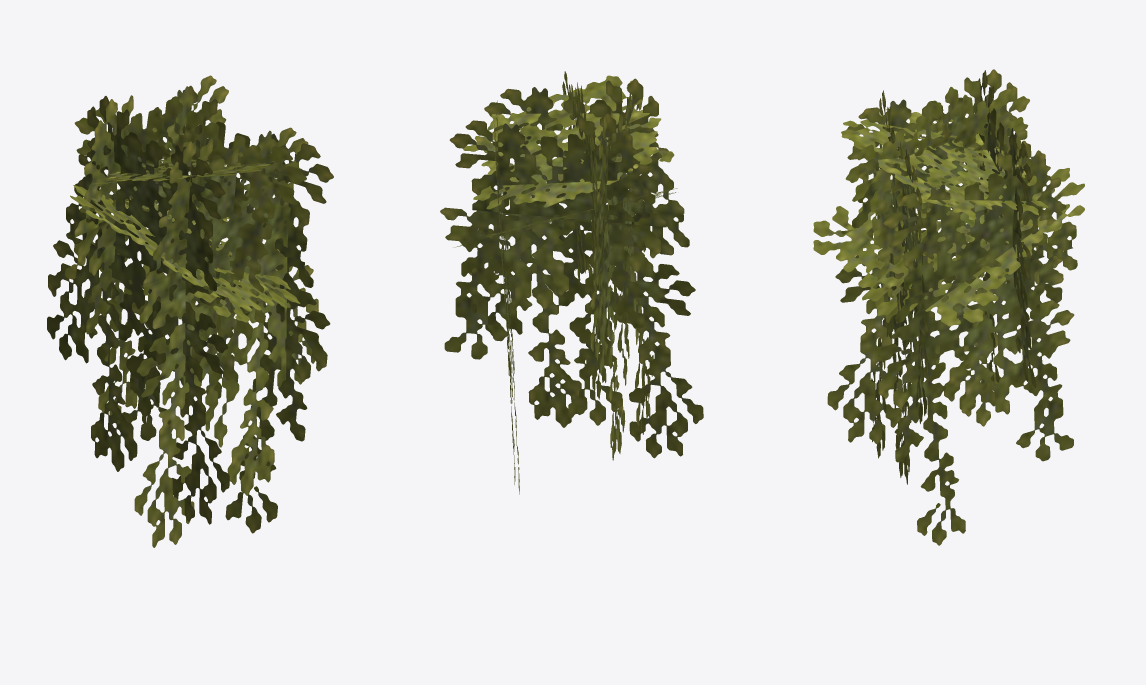
File: birch_leaves_yellowish_2.obj
3 views of the same model, side by side, from view 1: azimuth 30°, elevation 25°; view 2: azimuth 150°, elevation 25°; view 3: azimuth 270°, elevation 25° (orthographic). The views are drawn at different scales.
Visible parts, largest first — view 1: east, north, south, west, bottom, top; view 2: south, north, top, east, west; view 3: west, east, south, bottom, top, north.
Boxes of the visible parts, box(x1,y1,x2,y2) form: east: box(47, 96, 229, 524); north: box(134, 127, 319, 547); south: box(65, 75, 306, 415); west: box(116, 85, 333, 533); bottom: box(70, 185, 300, 322); top: box(92, 151, 273, 184); south: box(440, 71, 666, 425); north: box(469, 78, 703, 458); top: box(463, 75, 674, 209); east: box(590, 92, 653, 460); west: box(494, 100, 519, 494); west: box(877, 140, 1077, 545); east: box(827, 69, 1062, 444); south: box(845, 70, 1036, 388); bottom: box(813, 130, 1084, 326); top: box(841, 105, 1048, 219); north: box(871, 90, 928, 484).
Size of the model in its own units: 2.1 by 3.6 by 2.11.
